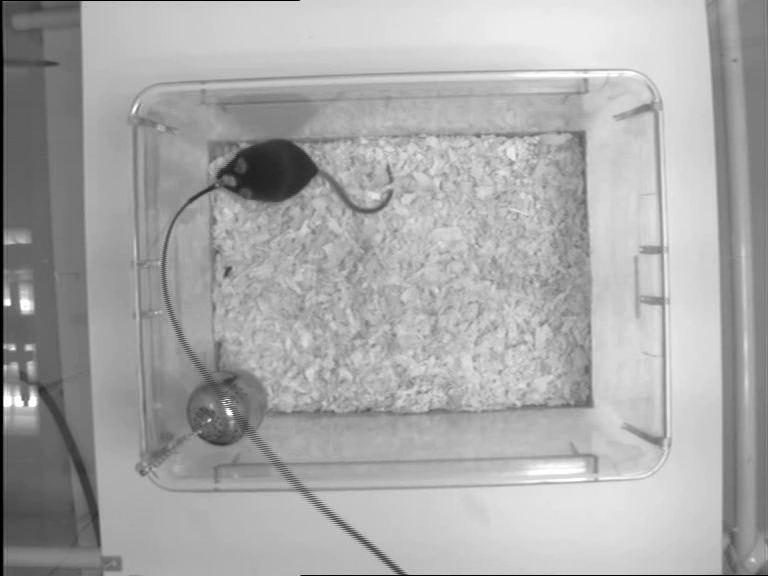mice: (213, 140, 394, 217)
